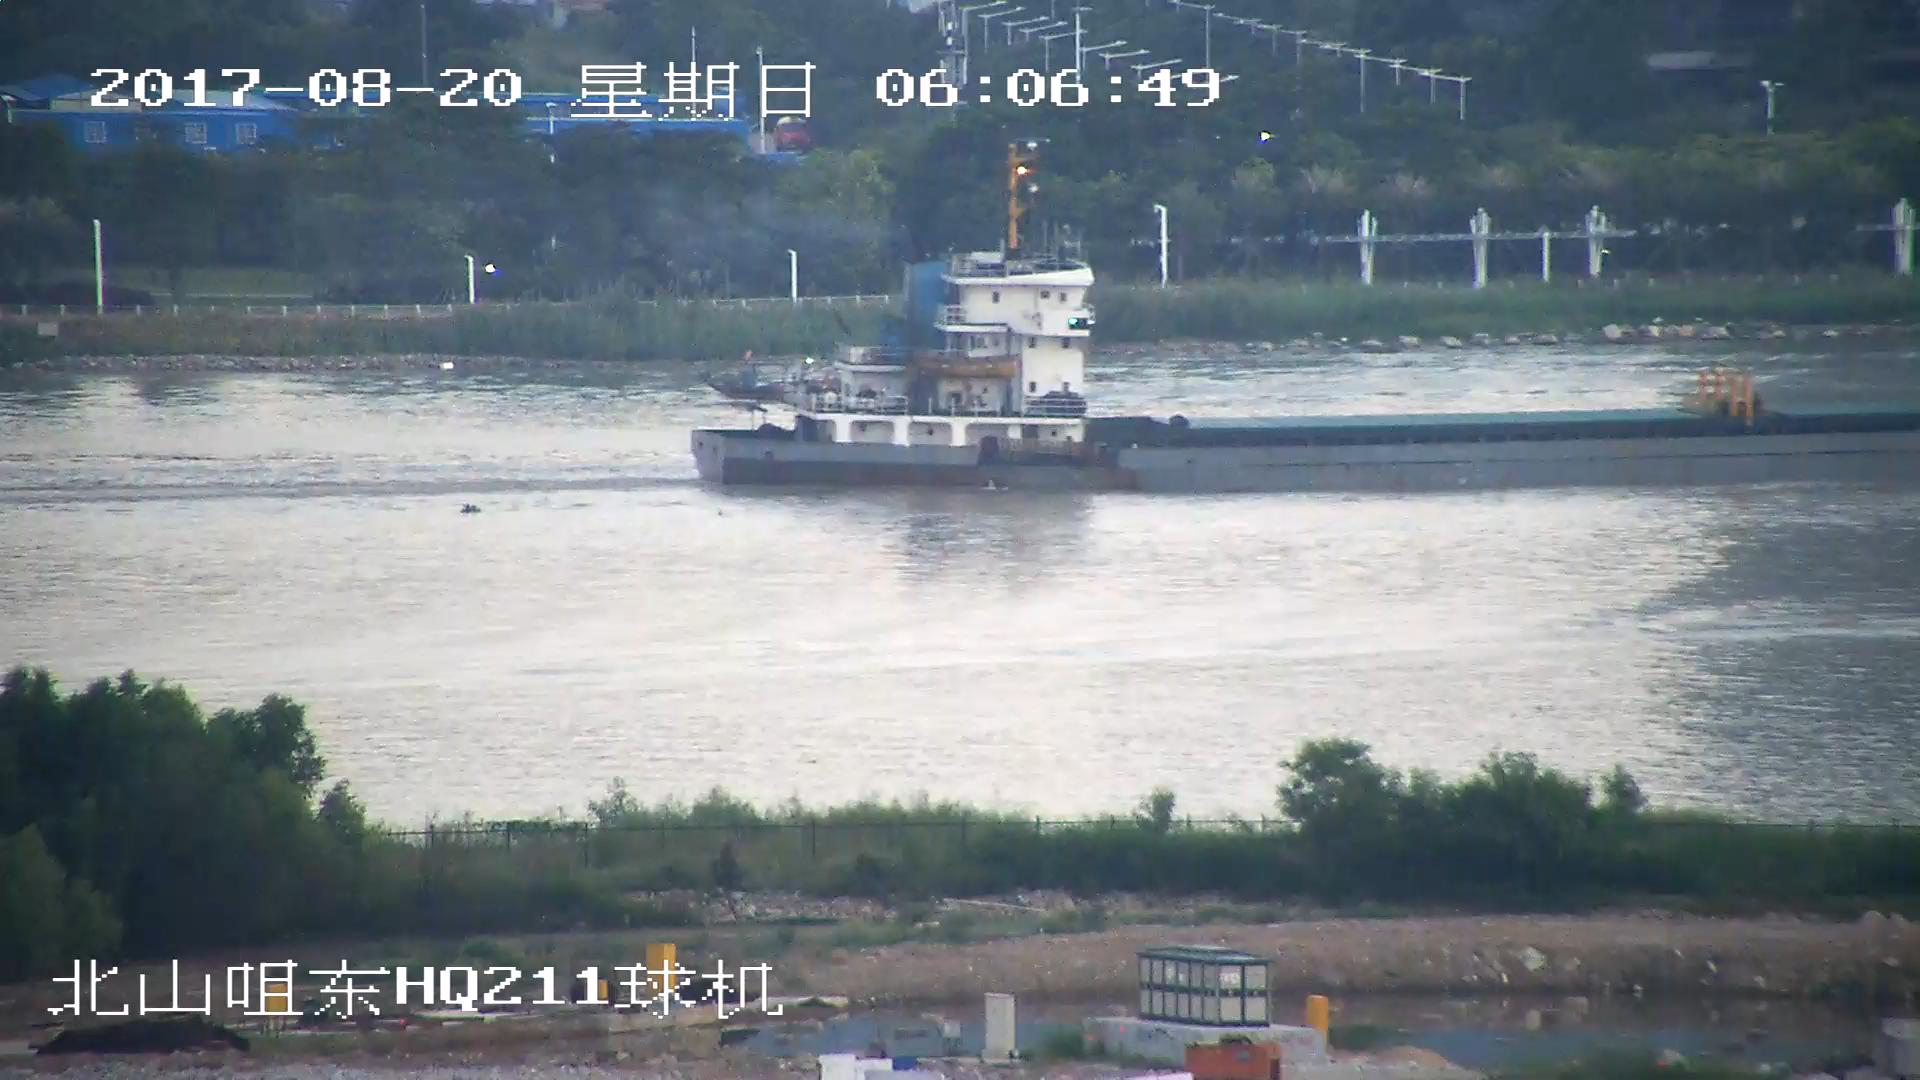general cargo ship: (685, 198, 1920, 488)
